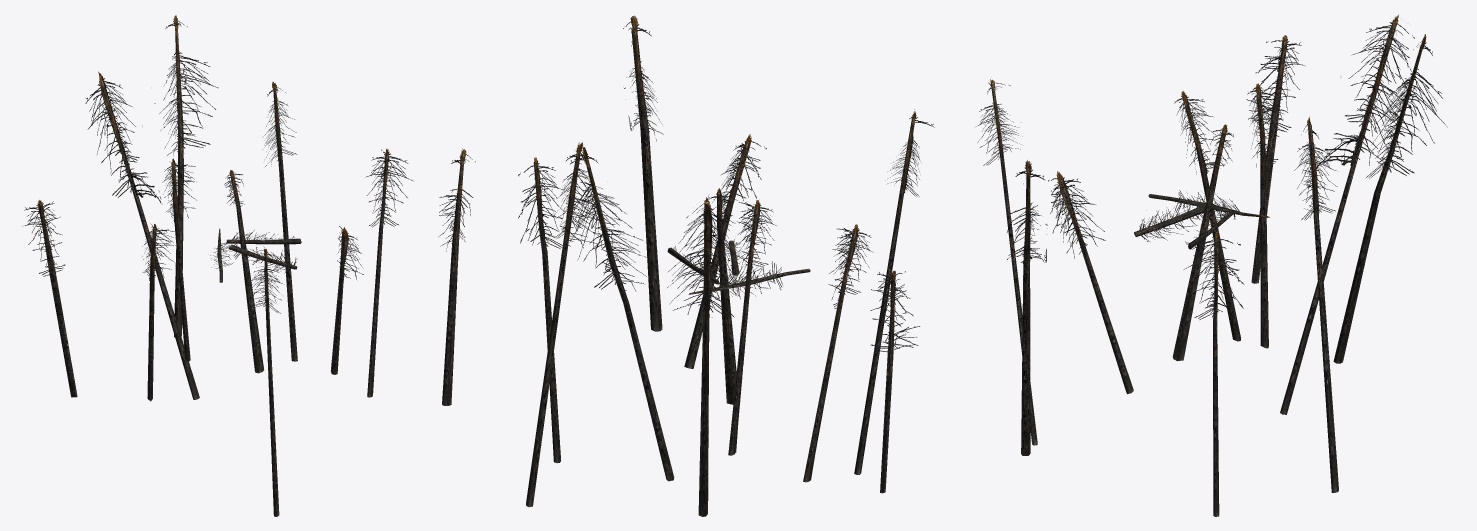
File: tree_6_c.obj
3 views of the same model, side by side, from view 1: azimuth 30°, elevation 25°; view 2: azimuth 150°, elevation 25°; view 3: azimuth 270°, elevation 25° (orthographic). The views are drawn at different scales.
Size of the model in its own units: 15.9 by 15.94 by 15.89.
